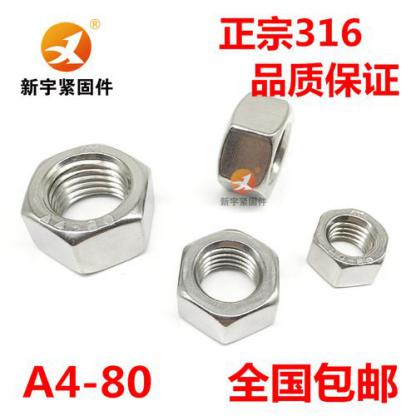FOD: (20, 142, 160, 278), (172, 224, 284, 342), (208, 86, 306, 206), (304, 204, 392, 292)
